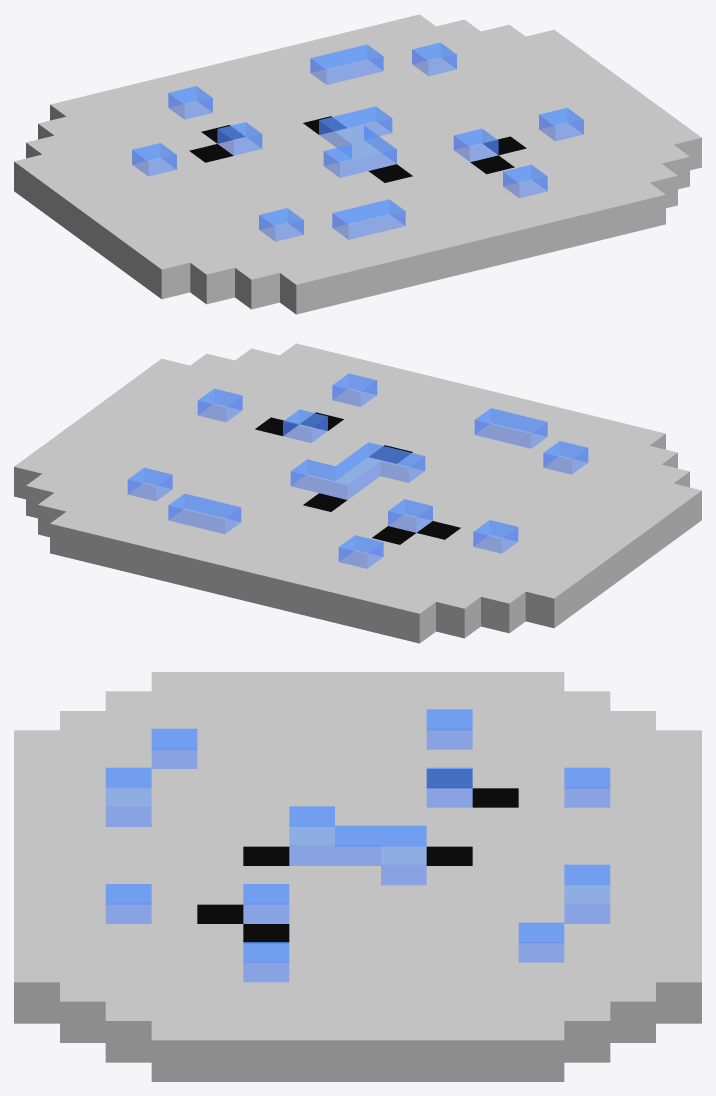
The model's file is map_6.glb.
The picture shows the model from 3 angles, top to bottom: view 1: azimuth 30°, elevation 25°; view 2: azimuth 150°, elevation 25°; view 3: azimuth 270°, elevation 25°; orthographic projection. The views are drawn at different scales.
Parts seen in each view (by area): view 1: Ground, Cube.001, Hole.004; view 2: Ground, Cube.001, Hole.004; view 3: Ground, Cube.001, Hole.004.
Part boxes in pixels (x1,y1,x2,y2): Ground: (14,14,701,314); Cube.001: (132,42,583,241); Hole.004: (189,116,526,182); Ground: (14,343,701,643); Cube.001: (127,373,588,568); Hole.004: (255,412,460,544); Ground: (14,672,701,1081); Cube.001: (105,709,610,982); Hole.004: (197,769,518,942).
Size of what is drawn, in the model's own units: 19 by 1.5 by 15.
